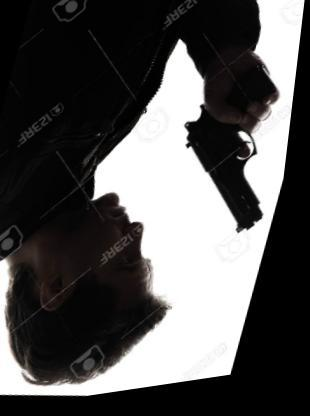pistol: (154, 58, 298, 257)
